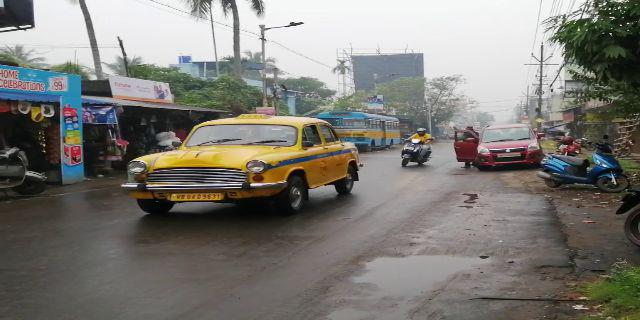Car: (134, 122, 360, 221), (471, 125, 537, 167)
Motorbike: (538, 147, 629, 195), (399, 124, 431, 166)
